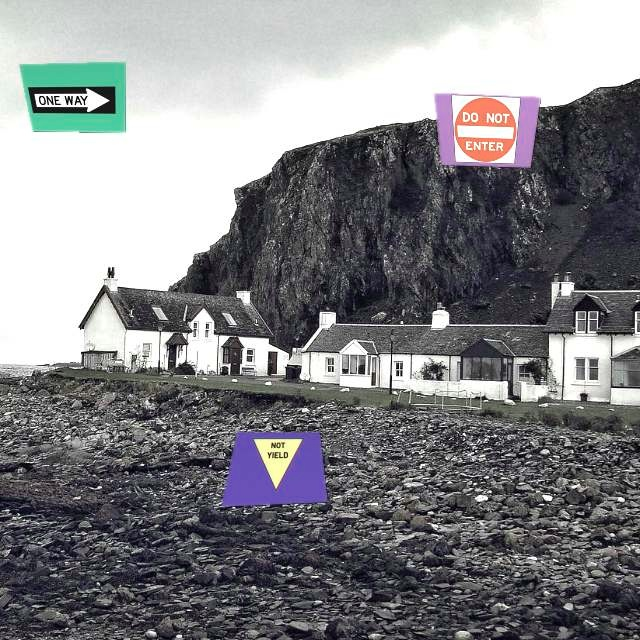DO_NOT_ENTER: (451, 95, 521, 164)
NOT_YIELD: (245, 439, 305, 492)
ONE_WAY_ right: (28, 82, 118, 119)
